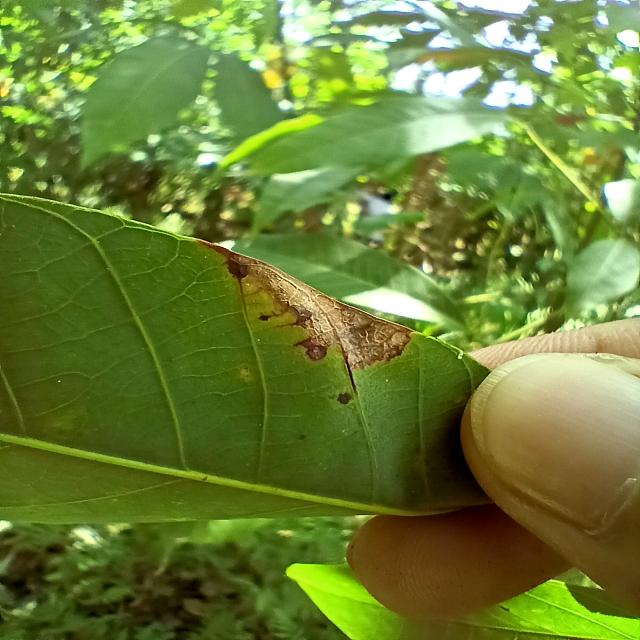Corynespora: (338, 345, 358, 395), (274, 321, 299, 330), (292, 337, 312, 347)
Leaf-Blight: (195, 238, 415, 369)
